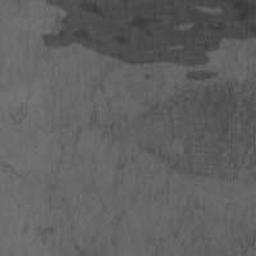Oil spot: (38, 0, 256, 186), (142, 73, 151, 82)
